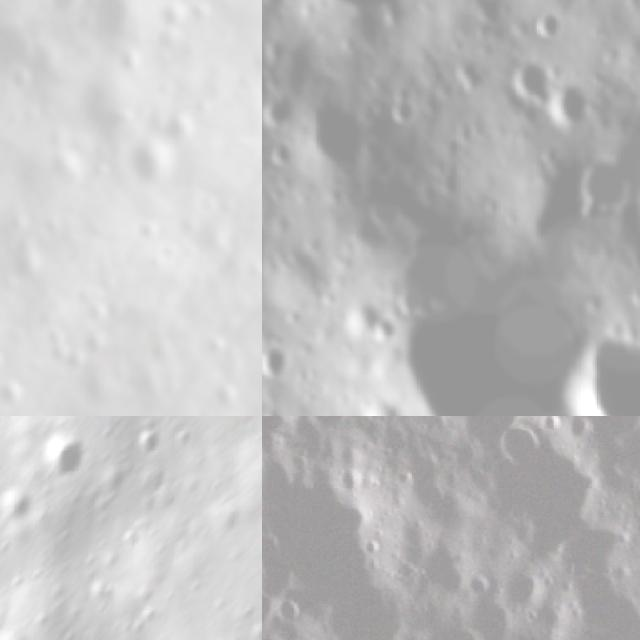crater: (483, 442, 609, 554), (304, 88, 386, 181), (571, 322, 640, 416), (551, 518, 640, 581), (410, 540, 475, 605), (576, 140, 631, 211), (36, 427, 88, 489), (490, 416, 542, 478), (347, 296, 404, 350), (128, 130, 180, 188), (490, 564, 548, 616), (402, 615, 502, 640), (552, 82, 598, 133), (455, 416, 532, 445), (510, 56, 552, 104), (0, 480, 39, 529), (355, 386, 414, 416), (162, 104, 202, 148), (536, 5, 574, 44), (302, 416, 359, 442), (262, 416, 306, 447), (208, 376, 245, 412), (78, 326, 115, 360), (262, 340, 292, 380), (131, 426, 164, 461), (278, 595, 304, 636), (44, 0, 98, 19), (262, 578, 279, 638), (82, 298, 116, 325), (158, 238, 187, 266), (0, 378, 25, 409), (134, 217, 160, 244), (0, 622, 37, 640)
